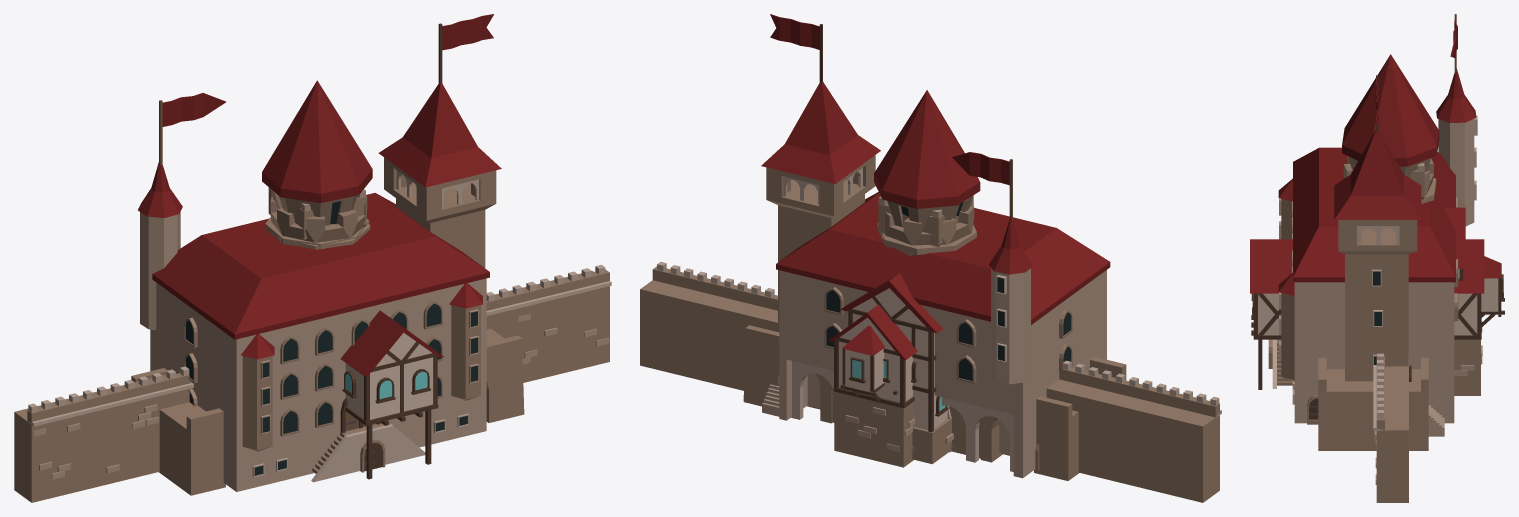
File: castle.fbx
3 renders of one model, left to right at view 1: azimuth 30°, elevation 25°; view 2: azimuth 150°, elevation 25°; view 3: azimuth 270°, elevation 25°, orthographic. The views are drawn at different scales.
Visible parts, largest first — view 1: house01, wall02, tower04, house03, bridge03, tower06, tower02; view 2: house01, wall02, house03, tower04, bridge03, house02, tower06, tower02, gate03; view 3: house01, house03, tower04, bridge03, wall02, house02, tower06, tower02.
Boxes of the visible parts, <box> form: house01: <box>138,14,501,491</box>; wall02: <box>14,264,611,502</box>; tower04: <box>262,80,372,249</box>; house03: <box>340,310,443,479</box>; bridge03: <box>131,328,524,495</box>; tower06: <box>270,195,370,249</box>; tower02: <box>268,187,366,240</box>; house01: <box>761,14,1110,478</box>; wall02: <box>640,261,1221,502</box>; house03: <box>828,304,917,467</box>; tower04: <box>874,90,980,254</box>; bridge03: <box>743,325,1126,480</box>; house02: <box>841,273,953,464</box>; tower06: <box>882,206,974,256</box>; tower02: <box>878,195,973,246</box>; gate03: <box>832,388,980,458</box>; house01: <box>1268,14,1477,436</box>; house03: <box>1250,239,1504,395</box>; tower04: <box>1342,54,1439,203</box>; bridge03: <box>1318,357,1428,450</box>; wall02: <box>1373,353,1408,502</box>; house02: <box>1444,207,1465,280</box>; tower06: <box>1343,156,1433,203</box>; tower02: <box>1409,163,1424,199</box>.
Bounding box in the file's own units: 146 × 92.12 × 60.33.
